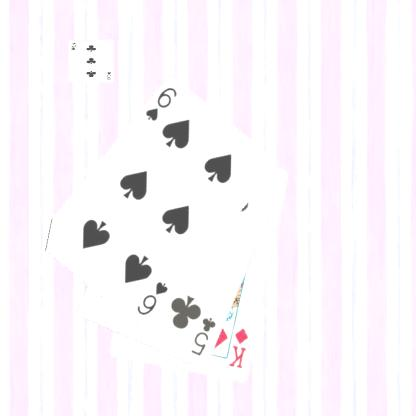5C: (188, 314, 218, 358)
6S: (142, 84, 179, 123), (134, 279, 170, 317)
KD: (226, 325, 250, 370)
